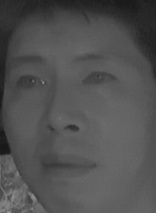eye: (81, 68, 118, 90), (16, 72, 47, 94)
mouth: (37, 146, 100, 183)
